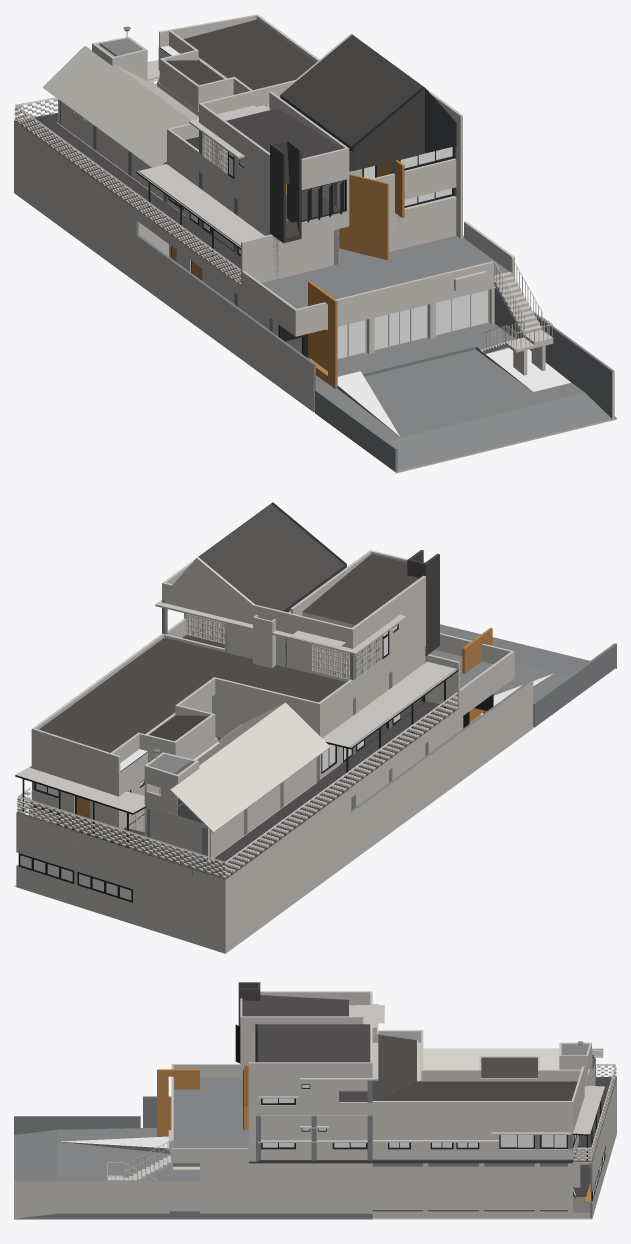
File: sa-house.glb
3 views of the same model, one above another, from view 1: azimuth 30°, elevation 25°; view 2: azimuth 150°, elevation 25°; view 3: azimuth 270°, elevation 25° (orthographic). The views are drawn at different scales.
Visible parts, largest first — view 1: dinding, paving, abu, sirip, kaca, baja, rumput; view 2: dinding, abu, paving, baja, kaca, sirip; view 3: dinding, paving, abu, sirip, kaca, baja, rumput.
Boxes of the visible parts, x1,y1,x2,y2 form: dinding: (14,14,616,473); paving: (59,26,616,471); abu: (14,19,425,286); sirip: (172,160,404,389); kaca: (160,45,487,358); baja: (136,47,456,357); rumput: (337,348,571,436); dinding: (14,550,616,953); abu: (16,504,457,879); paving: (16,600,616,875); baja: (15,502,493,902); kaca: (20,611,400,900); sirip: (77,624,492,819); dinding: (14,991,616,1219); paving: (14,1041,595,1219); abu: (238,982,616,1211); sirip: (157,1064,591,1202); kaca: (262,1085,605,1197); baja: (235,1024,605,1201); rumput: (61,1136,168,1148).
Size of the model in its own units: 14.16 by 14.83 by 42.12.
